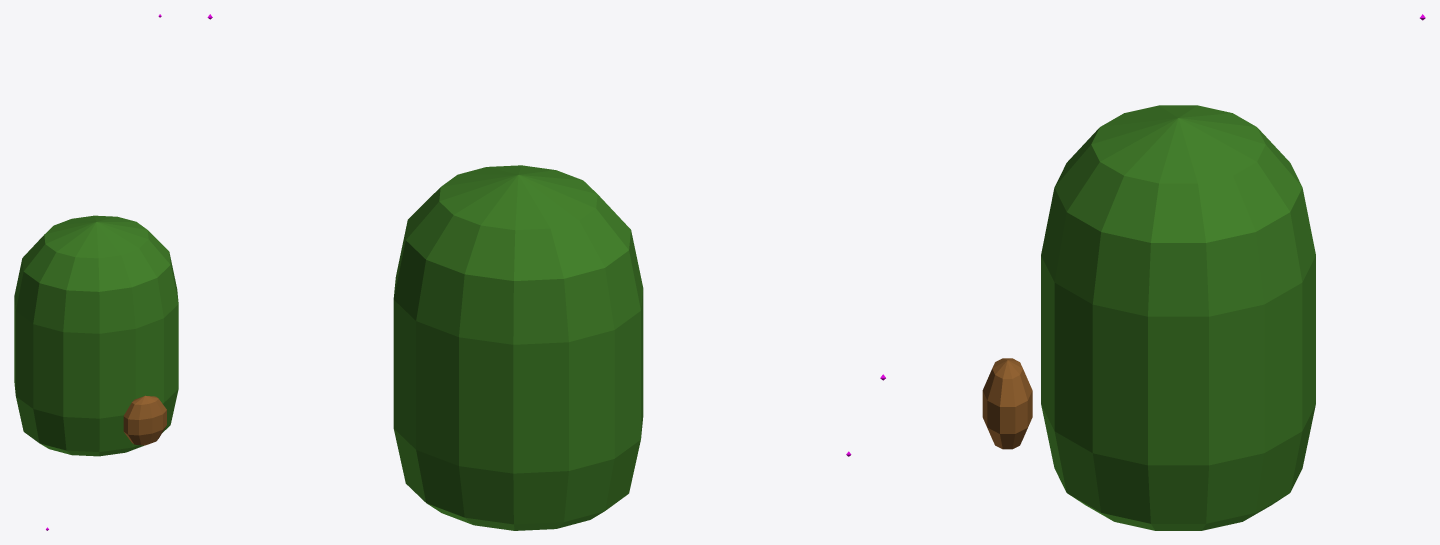
The model's file is acc_avocado.fbx.
3 renders of one model, left to right at view 1: azimuth 30°, elevation 25°; view 2: azimuth 150°, elevation 25°; view 3: azimuth 270°, elevation 25°, orthographic. The views are drawn at different scales.
Visible parts, largest first — view 1: Skin, Pit; view 2: Skin; view 3: Skin, Pit.
Part boxes in pixels (<box>): Skin: <box>14,215,178,456</box>; Pit: <box>123,395,166,445</box>; Skin: <box>393,165,643,530</box>; Skin: <box>1041,105,1315,530</box>; Pit: <box>982,358,1032,449</box>.
Bounding box in the file's own units: 2.99 × 3.6 × 2.99.
